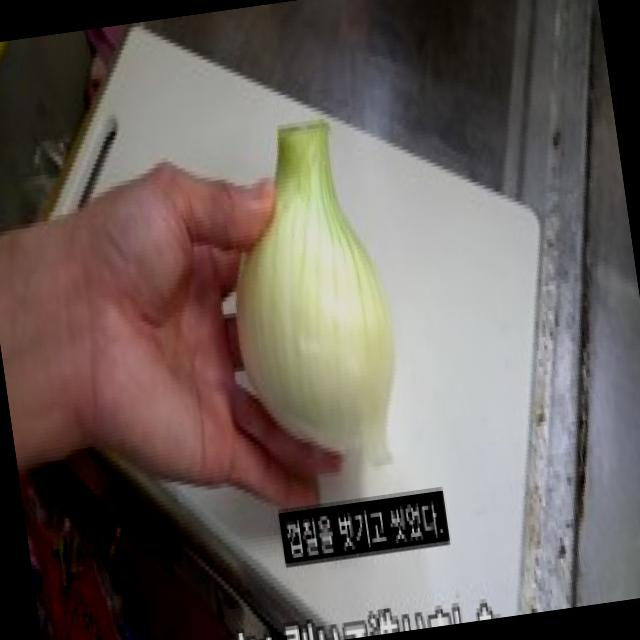onion: (196, 78, 434, 513)
